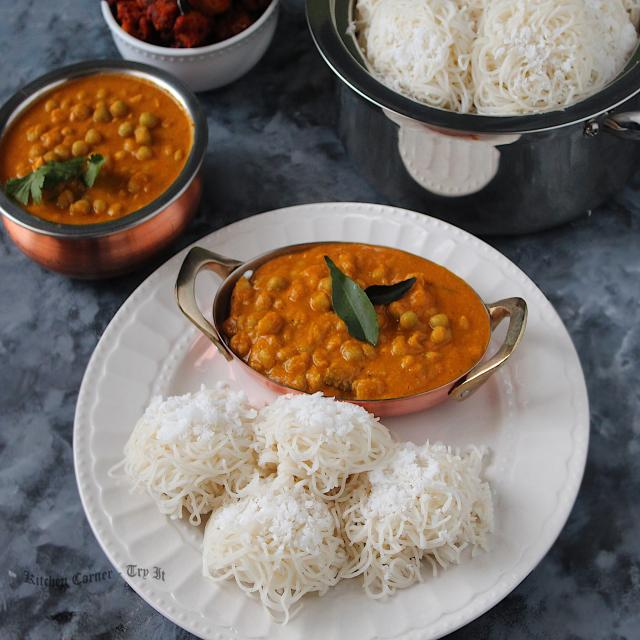CURRY: (228, 246, 488, 399), (0, 73, 193, 227)
IDIYAPPAM: (122, 378, 510, 618)
